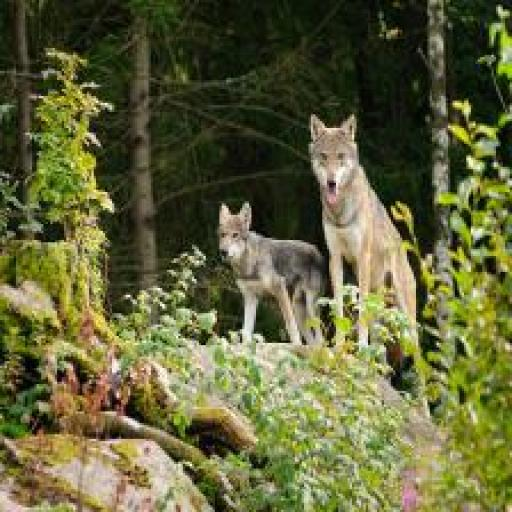wolf: (302, 108, 504, 428), (194, 162, 320, 398)
